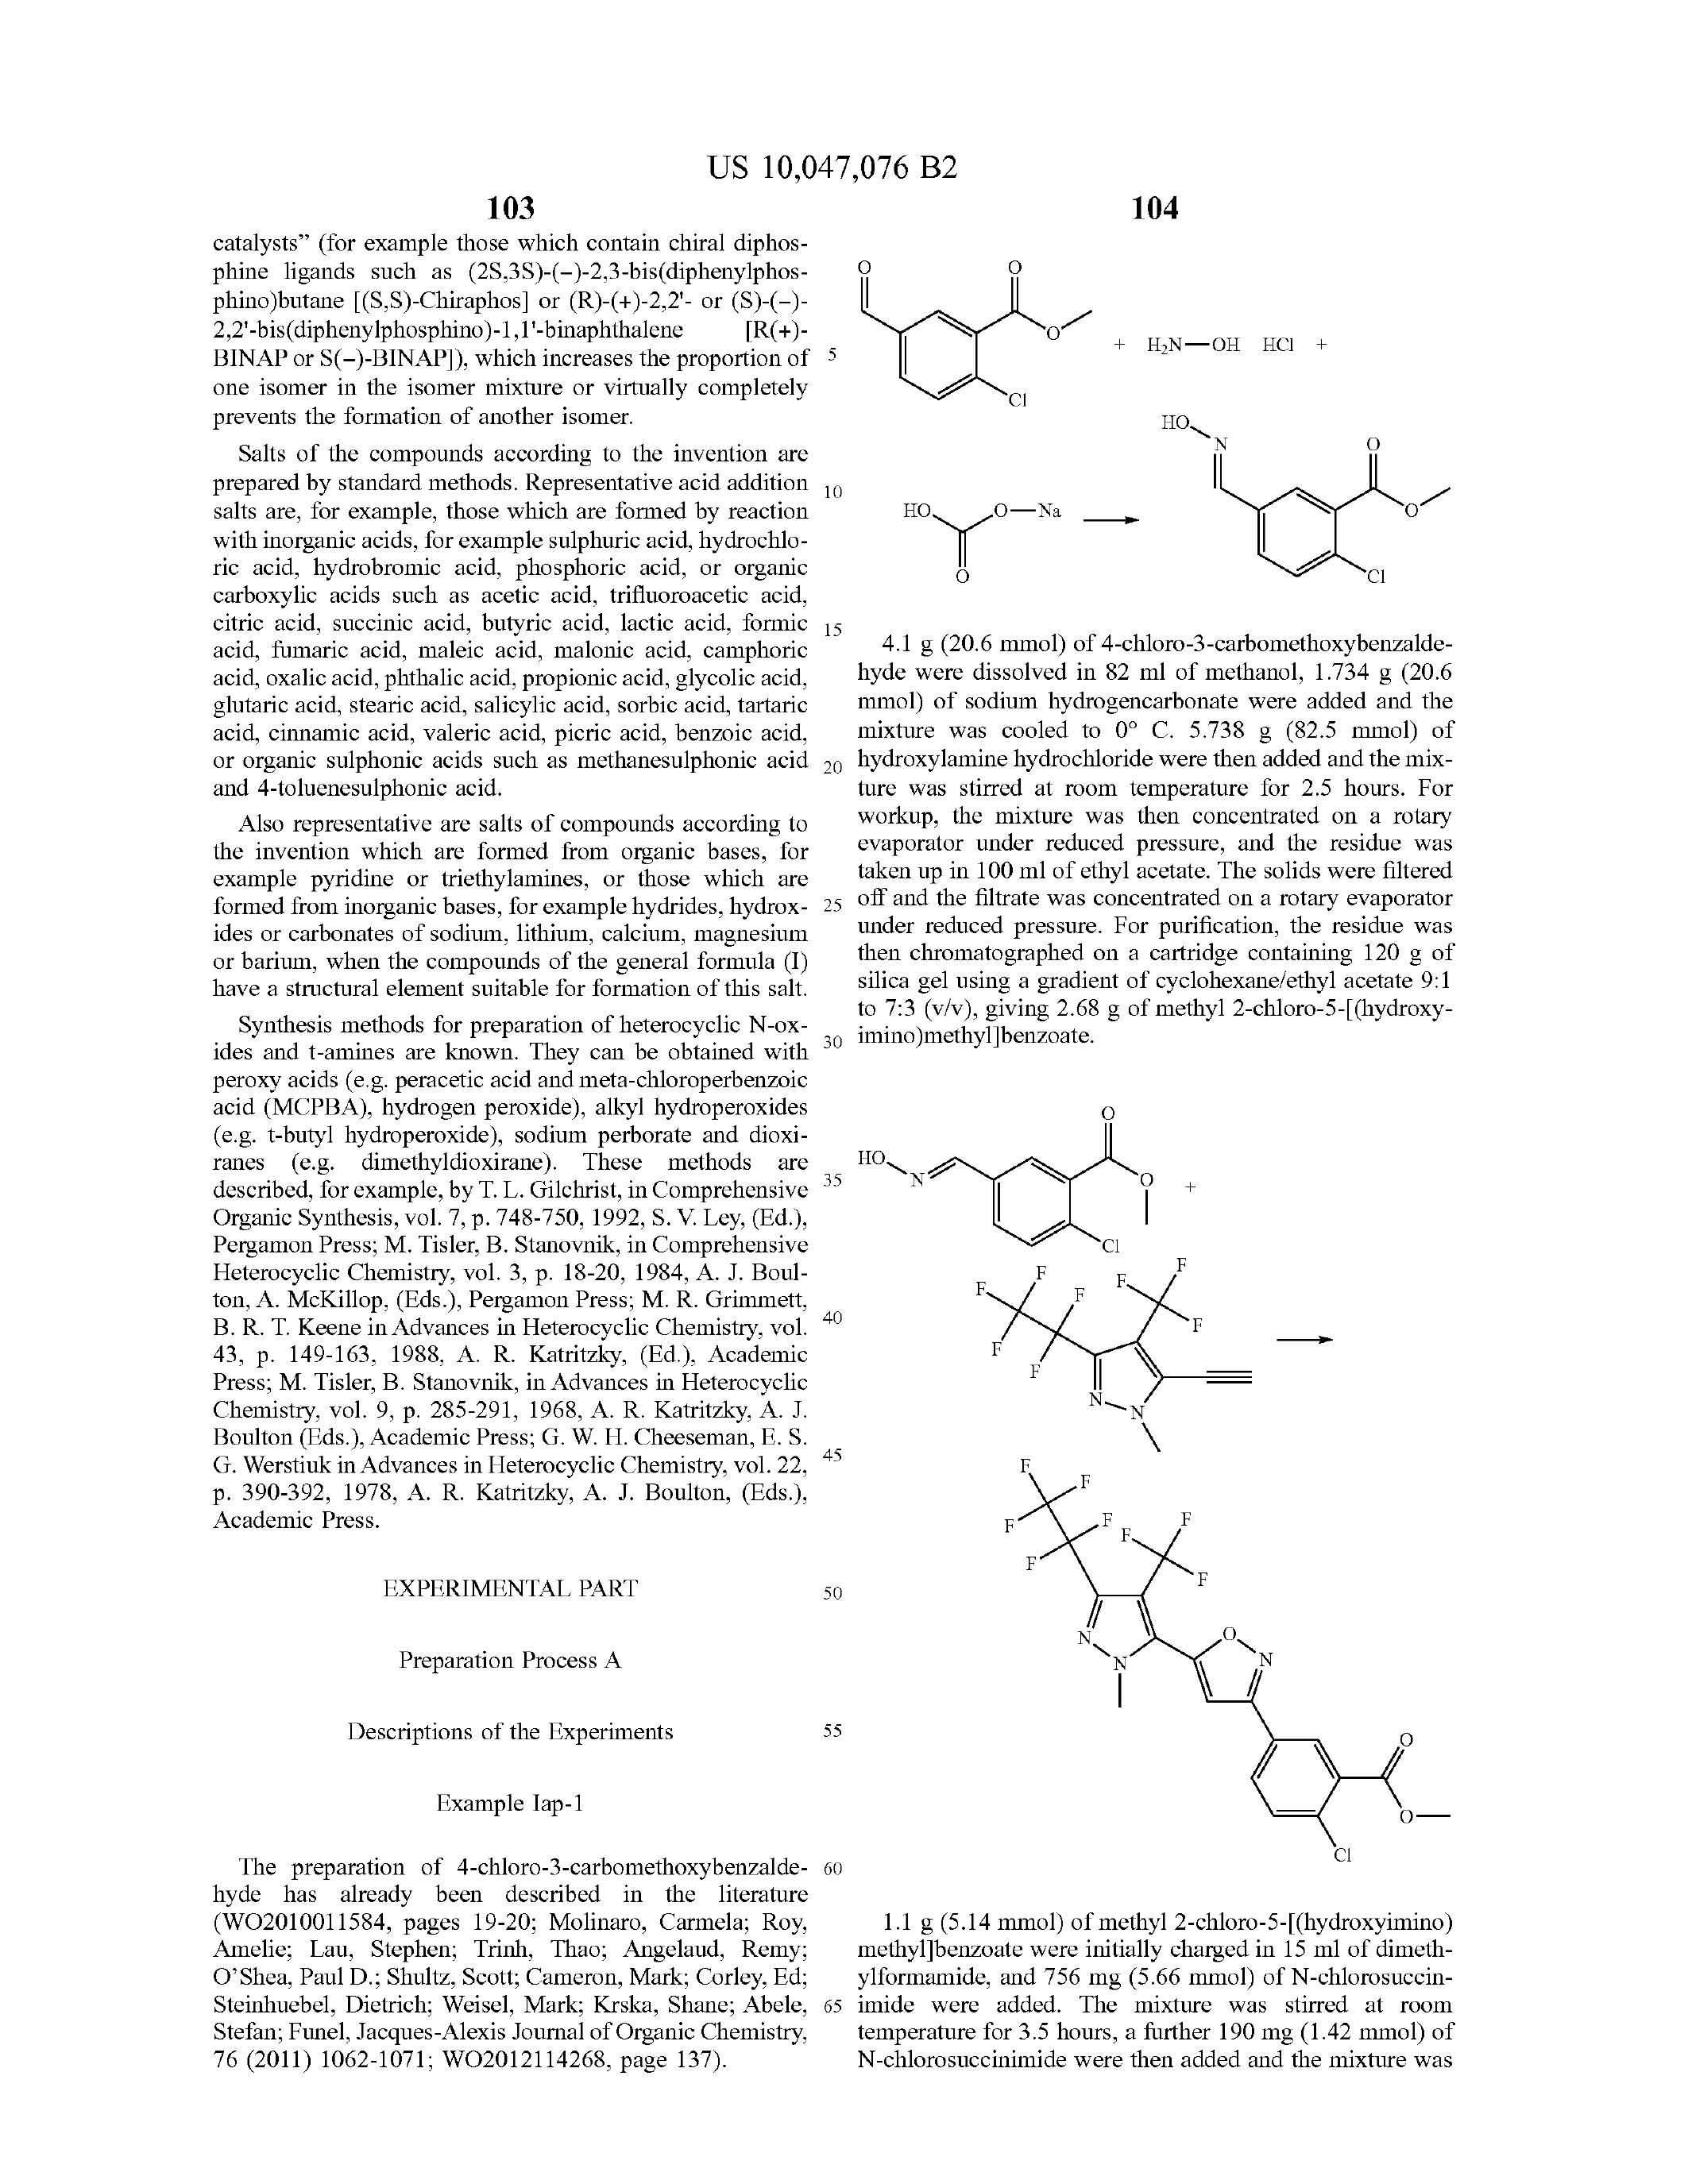intermediates: (1128, 376, 1484, 601)
